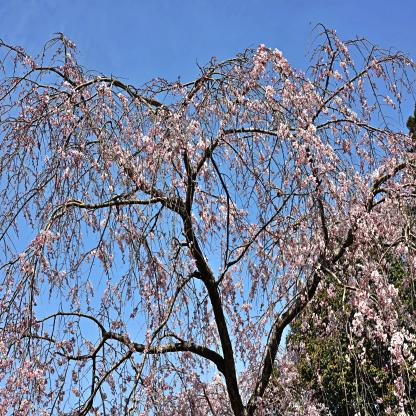ShidareZakura: (0, 22, 415, 416)
